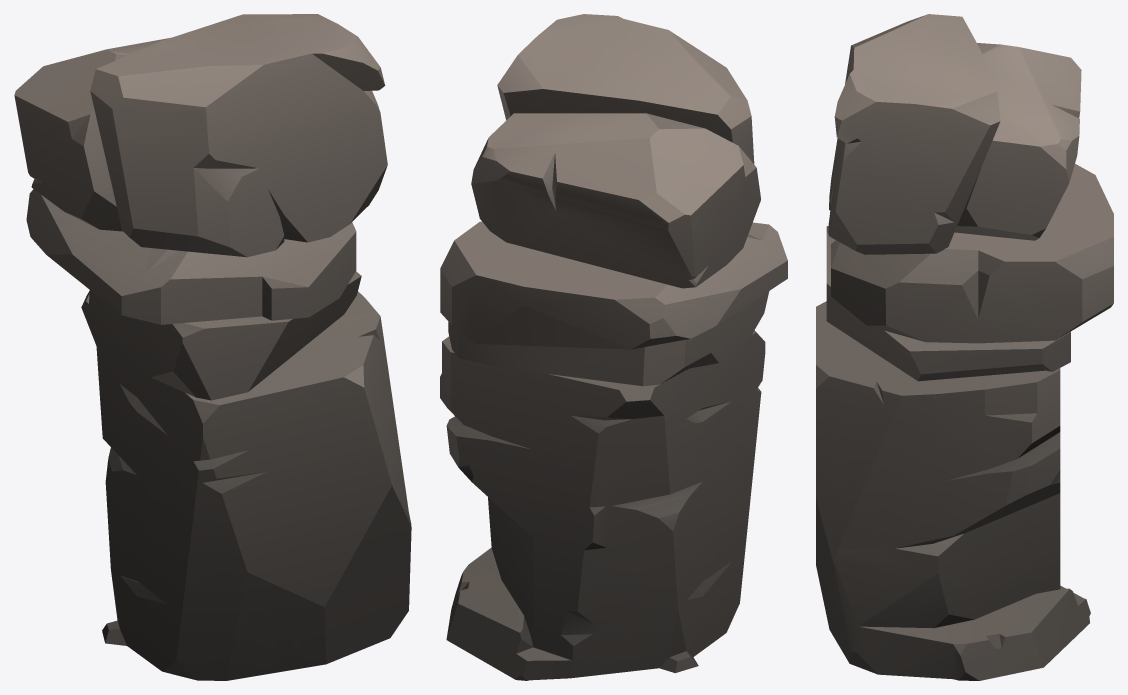
Rendered from Cliff_Vertical_3A.fbx.
The picture shows the model from 3 angles, left to right: view 1: azimuth 30°, elevation 25°; view 2: azimuth 150°, elevation 25°; view 3: azimuth 270°, elevation 25°; orthographic projection. The views are drawn at different scales.
Visible parts, largest first — view 1: Cliff_Vertical_3A; view 2: Cliff_Vertical_3A; view 3: Cliff_Vertical_3A.
Boxes of the visible parts, <box> form: Cliff_Vertical_3A: <box>14,14,411,680</box>; Cliff_Vertical_3A: <box>440,14,787,680</box>; Cliff_Vertical_3A: <box>816,14,1113,680</box>.
Size of the model in its own units: 1064 by 2024 by 976.
